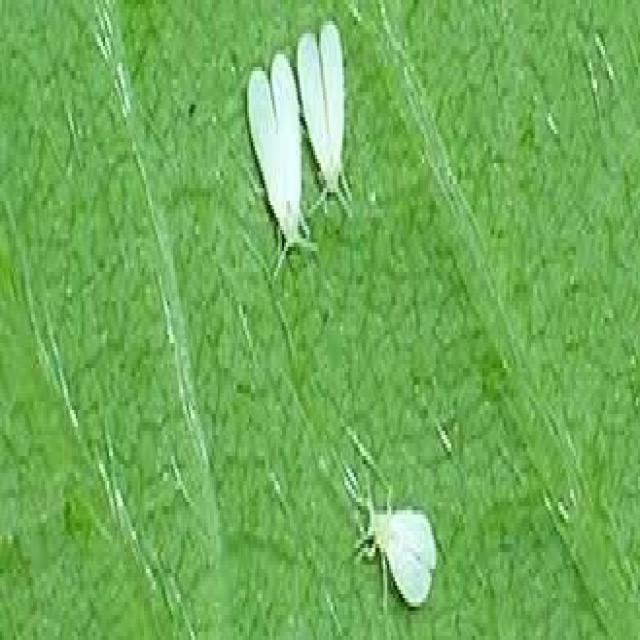Pestalotiopsis: (235, 0, 374, 264), (332, 414, 485, 640)
